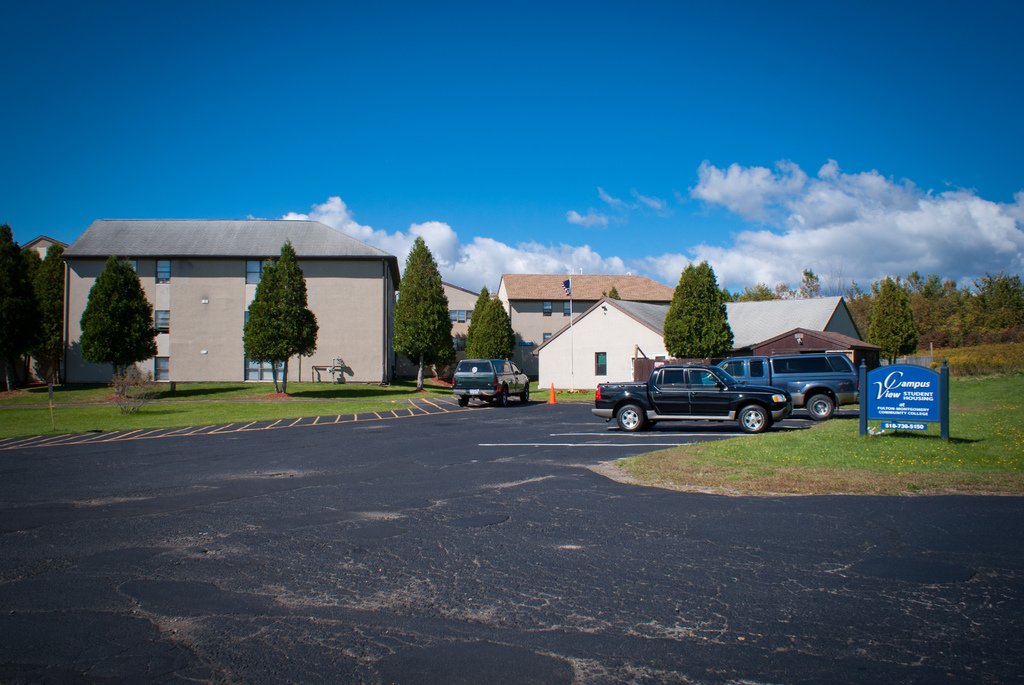car: (586, 362, 800, 438), (716, 333, 872, 425), (435, 342, 544, 416)
